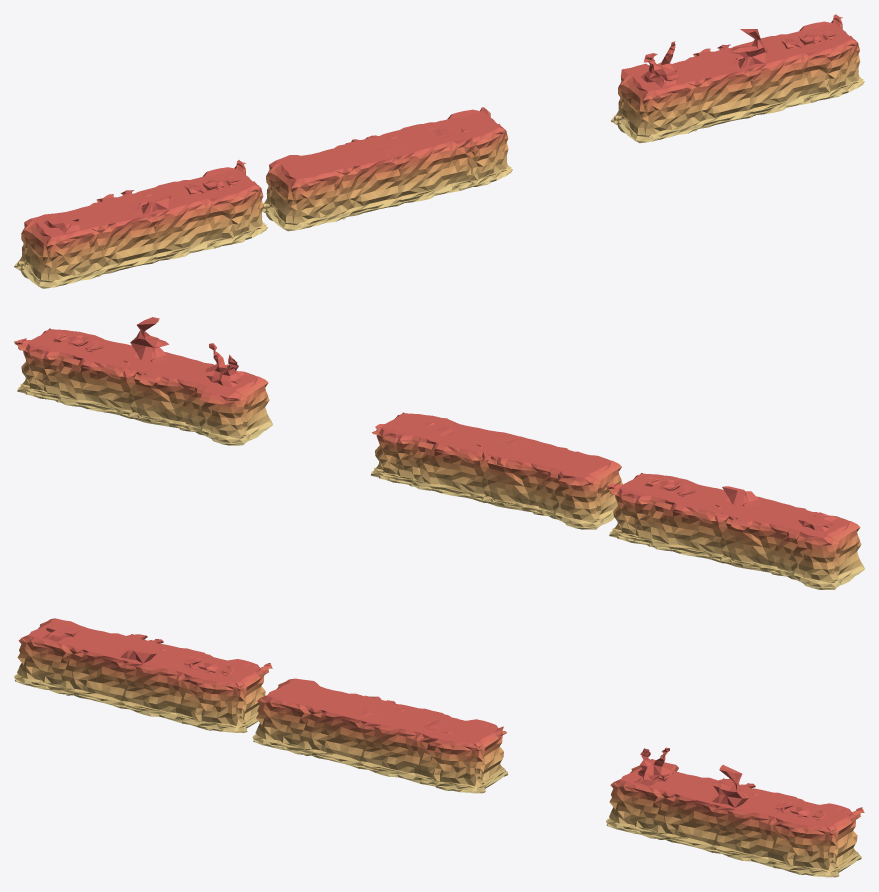
Rendered from CanionSides.fbx.
The picture shows the model from 3 angles, top to bottom: view 1: azimuth 30°, elevation 25°; view 2: azimuth 150°, elevation 25°; view 3: azimuth 330°, elevation 25°; orthographic projection.
Visible parts, largest first — view 1: CanionSide1, CanionSide3, CanionSide2; view 2: CanionSide1, CanionSide3, CanionSide2; view 3: CanionSide1, CanionSide2, CanionSide3.
Boxes of the visible parts, left/top/right/bottom form: CanionSide1: left=610, top=14, right=864, bottom=143; CanionSide3: left=14, top=160, right=267, bottom=288; CanionSide2: left=262, top=107, right=512, bottom=231; CanionSide1: left=14, top=317, right=272, bottom=445; CanionSide3: left=606, top=473, right=864, bottom=589; CanionSide2: left=371, top=412, right=622, bottom=529; CanionSide1: left=606, top=747, right=864, bottom=877; CanionSide2: left=252, top=678, right=508, bottom=793; CanionSide3: left=14, top=618, right=272, bottom=732.
Bounding box in the file's own units: 116 × 10.89 × 9.9.
